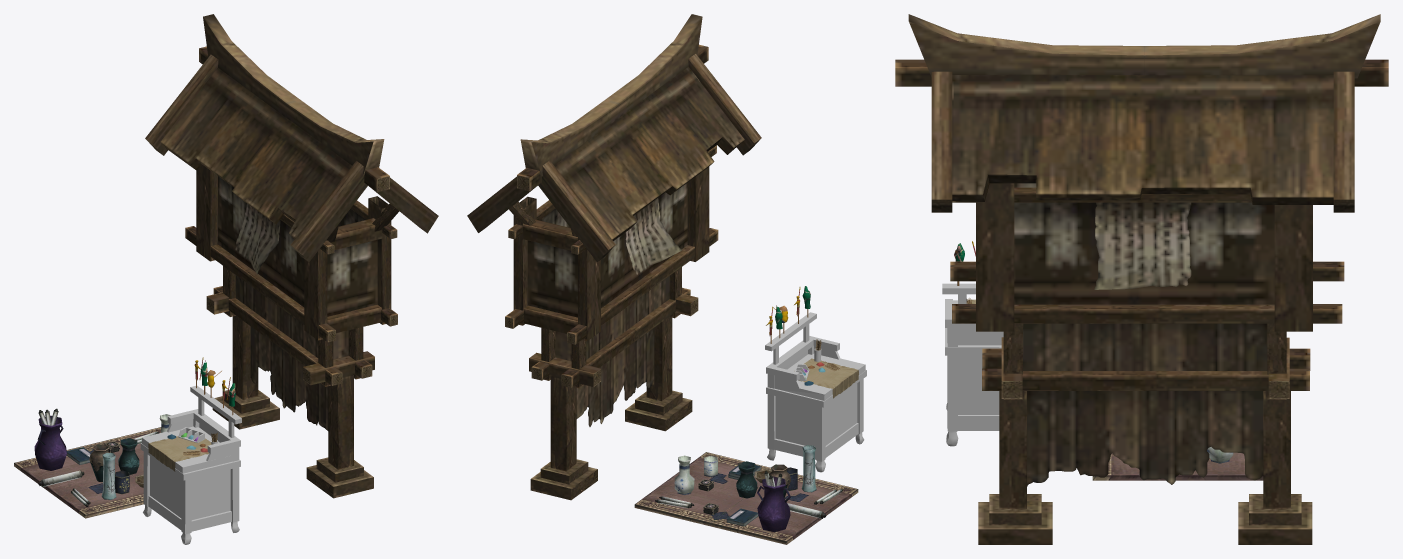
3 views of the same model, side by side, from view 1: azimuth 30°, elevation 25°; view 2: azimuth 150°, elevation 25°; view 3: azimuth 270°, elevation 25° (orthographic). The views are drawn at different scales.
Parts seen in each view (by area): view 1: element3ds.com-ca_thing_misc037, element3ds.com-ca_thing_misc210, element3ds.com-ca_thing_misc047; view 2: element3ds.com-ca_thing_misc037, element3ds.com-ca_thing_misc047, element3ds.com-ca_thing_misc210; view 3: element3ds.com-ca_thing_misc037, element3ds.com-ca_thing_misc210, element3ds.com-ca_thing_misc047.
Boxes of the visible parts, x1,y1,x2,y2 form: element3ds.com-ca_thing_misc037: (145, 14, 438, 498); element3ds.com-ca_thing_misc210: (140, 357, 241, 544); element3ds.com-ca_thing_misc047: (14, 408, 170, 518); element3ds.com-ca_thing_misc037: (467, 14, 761, 500); element3ds.com-ca_thing_misc047: (634, 445, 858, 544); element3ds.com-ca_thing_misc210: (765, 286, 866, 472); element3ds.com-ca_thing_misc037: (895, 14, 1388, 544); element3ds.com-ca_thing_misc210: (942, 241, 1003, 446); element3ds.com-ca_thing_misc047: (1092, 447, 1263, 480).
Size of the model in its own units: 323 by 379 by 330.
